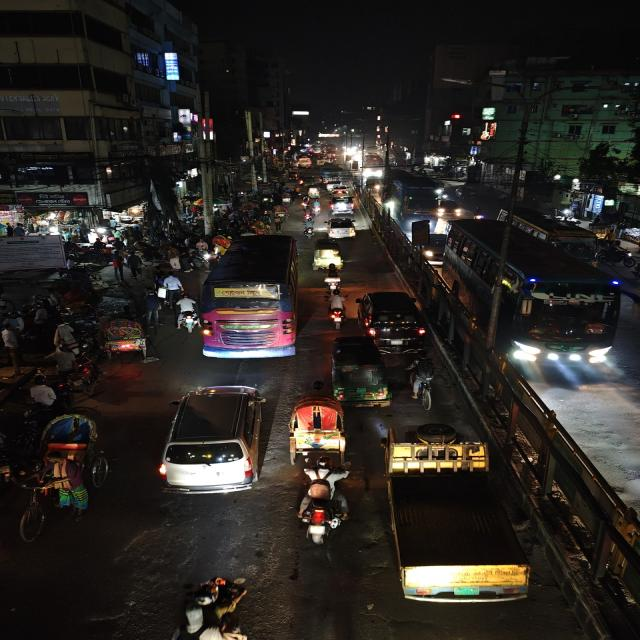bicycle: (406, 354, 440, 410)
bus: (447, 220, 626, 368), (200, 233, 304, 361), (389, 172, 445, 218)
car: (158, 381, 268, 497), (354, 288, 427, 346), (416, 233, 448, 267), (323, 214, 358, 240), (437, 198, 465, 217), (329, 197, 356, 216)
cng: (328, 335, 391, 408), (311, 237, 342, 272), (306, 186, 320, 200)
motorcycle: (173, 574, 254, 640), (296, 473, 350, 547), (71, 353, 106, 392), (174, 295, 196, 339), (326, 290, 348, 330), (320, 262, 344, 296), (302, 217, 316, 236), (301, 207, 314, 225), (310, 201, 322, 217)
pedestrian: (0, 324, 25, 364), (26, 380, 57, 410), (142, 290, 166, 325), (160, 271, 185, 301), (165, 245, 186, 271), (126, 249, 145, 277), (151, 262, 170, 289), (271, 212, 283, 234)
pickup_van: (385, 412, 535, 607)
rickshaw: (14, 405, 112, 545), (285, 382, 348, 466), (97, 314, 154, 361)
